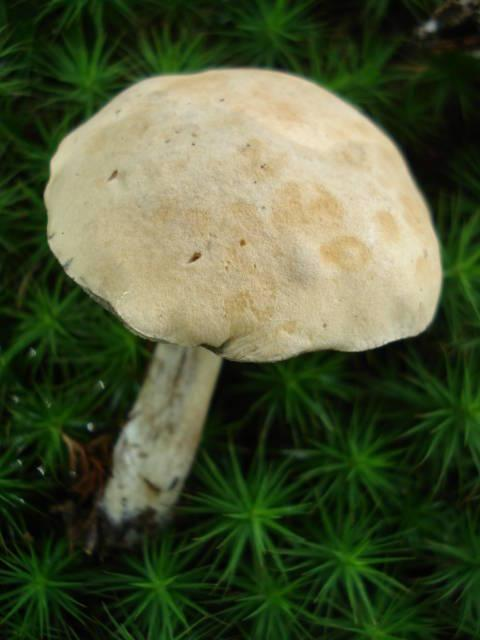edible_mushroom: (42, 65, 443, 553)
